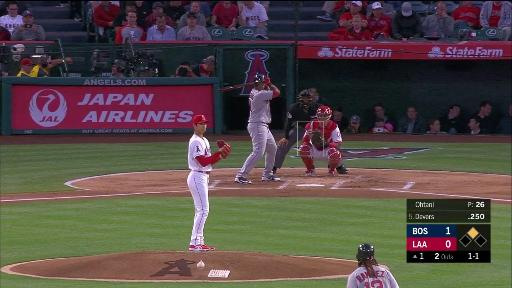pitcher: (187, 114, 233, 253)
